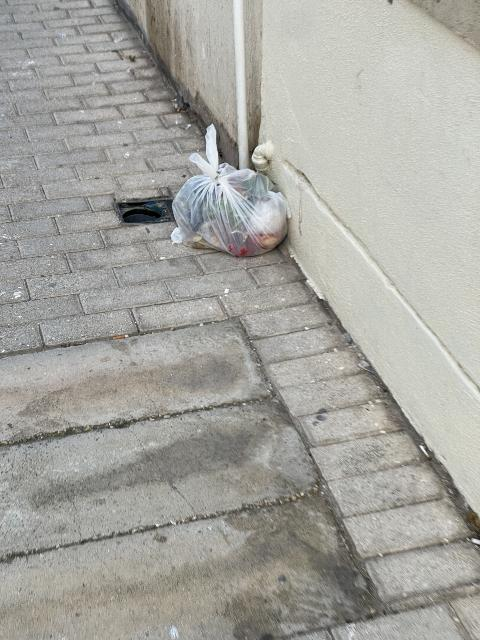Organic -White-: (171, 124, 288, 257)
Other: (221, 214, 224, 220)
